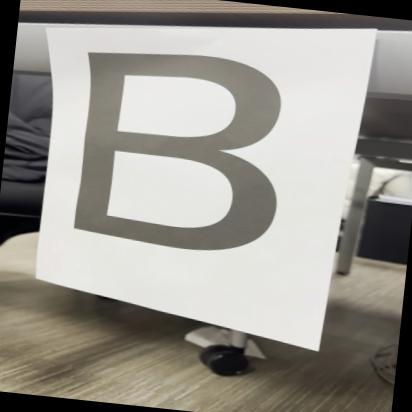seat: (36, 38, 316, 274)
